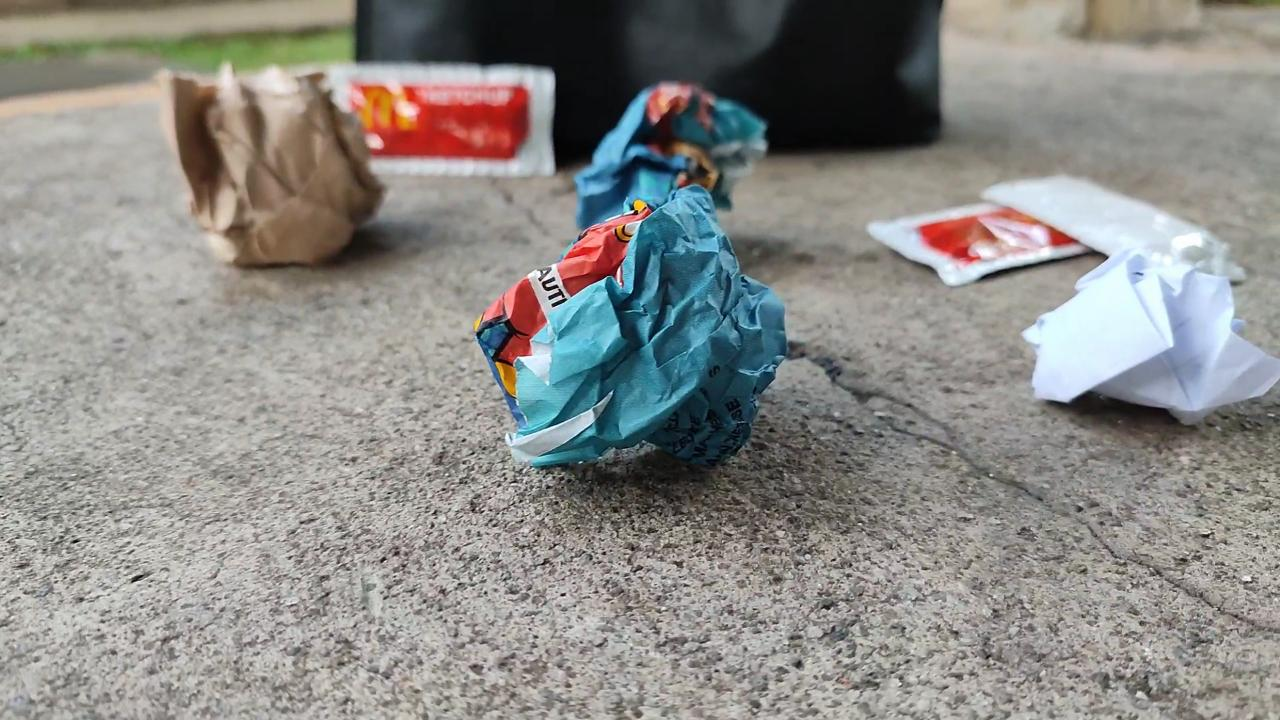Paper: (439, 180, 792, 494), (131, 60, 396, 266), (1016, 239, 1280, 432), (564, 59, 781, 244)
